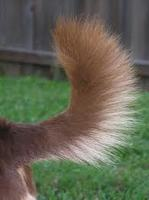tail: (28, 14, 140, 170)
